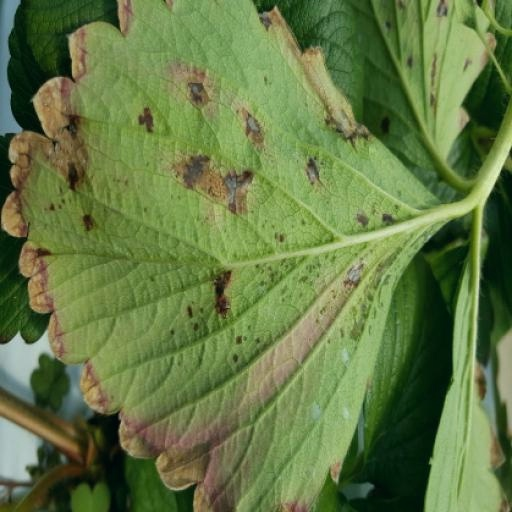Angular Leafspot: (64, 0, 511, 511), (15, 352, 138, 511)
